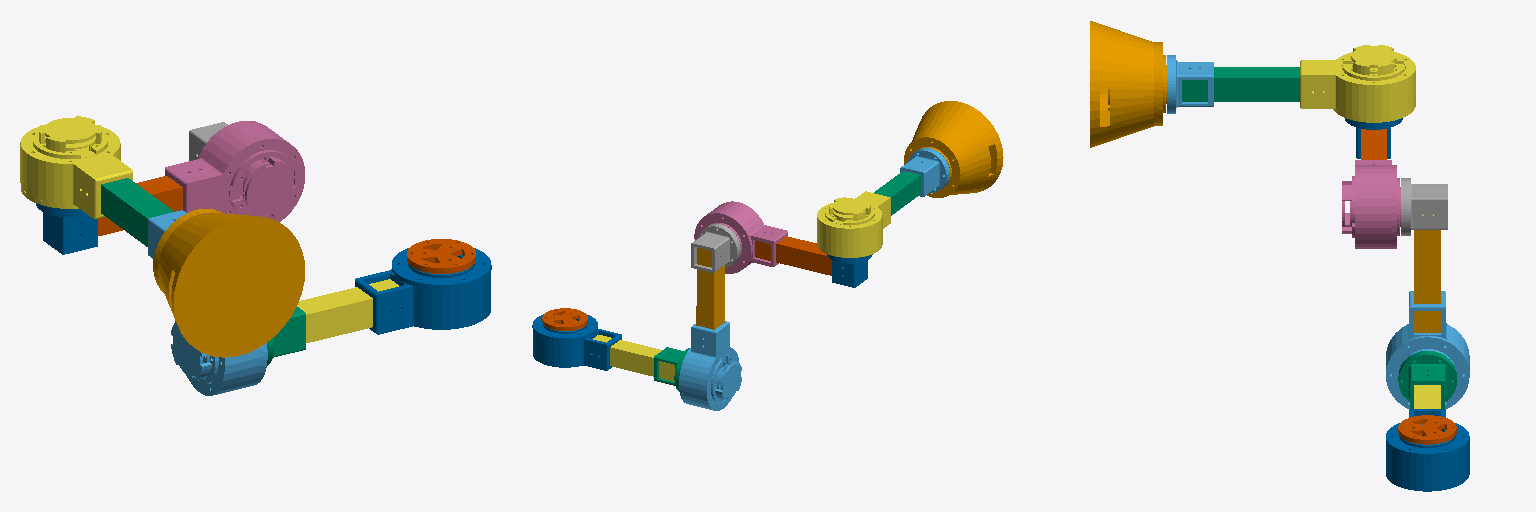
The robot description file, URDF, robot "Auto-Generated: e5adead3ab344a70b7c7bb95dea86124":
<robot name="Auto-Generated: e5adead3ab344a70b7c7bb95dea86124">
	<link name="base_rev_joint.base_motor_link">
		<inertial>
			<origin xyz="1.6355e-05 -2.1044e-06 -0.030945" rpy="3.141592653589793 0.0 0.0" />
			<mass value="1.1937" />
			<inertia ixx="0.0011798" ixy="-3.4788e-08" ixz="2.8837e-07" iyy="0.0010863" iyz="5.0519e-08" izz="0.0016066" />
		</inertial>
		<visual name="base_rev_joint.base_motor_link_visual">
			<origin xyz="0.0 0.0 0.0" rpy="3.141592653589793 0.0 0.0" />
			<geometry>
				<mesh filename="assets/Assem_4310_BASE/Assem_4310_BASE/meshes/base_motor_link.STL" scale="1.0 1.0 1.0" />
			</geometry>
		</visual>
		<collision name="base_rev_joint.base_motor_link_collision">
			<origin xyz="0.0 0.0 0.0" rpy="3.141592653589793 0.0 0.0" />
			<geometry>
				<mesh filename="assets/Assem_4310_BASE/Assem_4310_BASE/meshes/base_motor_link.STL" scale="1.0 1.0 1.0" />
			</geometry>
		</collision>
	</link>
	<link name="base_rev_joint.base_out_link">
		<inertial>
			<origin xyz="2.3272e-17 0.0011054 0.008691" rpy="0.0 0.0 0.0" />
			<mass value="0.088545" />
			<inertia ixx="2.4599e-05" ixy="-1.5532e-21" ixz="3.7828e-22" iyy="2.5766e-05" iyz="-7.8406e-07" izz="3.0632e-05" />
		</inertial>
		<visual name="base_rev_joint.base_out_link_visual">
			<origin xyz="0.0 0.0 0.0" rpy="0.0 0.0 0.0" />
			<geometry>
				<mesh filename="assets/Assem_4310_BASE/Assem_4310_BASE/meshes/base_out_link.STL" scale="1.0 1.0 1.0" />
			</geometry>
		</visual>
		<collision name="base_rev_joint.base_out_link_collision">
			<origin xyz="0.0 0.0 0.0" rpy="0.0 0.0 0.0" />
			<geometry>
				<mesh filename="assets/Assem_4310_BASE/Assem_4310_BASE/meshes/base_out_link.STL" scale="1.0 1.0 1.0" />
			</geometry>
		</collision>
	</link>
	<link name="baseto4310-0.15.baseto4310-0.15">
		<inertial>
			<origin xyz="0.0 0.0 -0.075" rpy="0.0 0.0 0.0" />
			<mass value="9.375000000000002e-05" />
			<inertia ixx="1.7822265625e-07" ixy="0.0" ixz="0.0" iyy="1.7822265625e-07" iyz="0.0" izz="4.882812500000001e-09" />
		</inertial>
		<visual name="baseto4310-0.15.baseto4310-0.15_visual">
			<origin xyz="0.0 0.0 -0.075" rpy="0.0 0.0 0.0" />
			<geometry>
				<box size="0.025 0.025 0.15" />
			</geometry>
		</visual>
		<collision name="baseto4310-0.15.baseto4310-0.15_collision">
			<origin xyz="0.0 0.0 -0.075" rpy="0.0 0.0 0.0" />
			<geometry>
				<box size="0.025 0.025 0.15" />
			</geometry>
		</collision>
	</link>
	<link name="motor4310_rev_joint.motor4310_in_link">
		<inertial>
			<origin xyz="0.0012212 -4.3571e-06 0.035478" rpy="0.0 0.0 0.0" />
			<mass value="0.57649" />
			<inertia ixx="0.00051876" ixy="-5.0519e-08" ixz="-5.0469e-06" iyy="0.00039258" iyz="3.4788e-08" izz="0.00029808" />
		</inertial>
		<visual name="motor4310_rev_joint.motor4310_in_link_visual">
			<origin xyz="0.0 0.0 0.0" rpy="0.0 0.0 0.0" />
			<geometry>
				<mesh filename="assets/Assem_4310_JOINT/Assem_4310_JOINT/meshes/motor4310_in_link.STL" scale="1.0 1.0 1.0" />
			</geometry>
		</visual>
		<collision name="motor4310_rev_joint.motor4310_in_link_collision">
			<origin xyz="0.0 0.0 0.0" rpy="0.0 0.0 0.0" />
			<geometry>
				<mesh filename="assets/Assem_4310_JOINT/Assem_4310_JOINT/meshes/motor4310_in_link.STL" scale="1.0 1.0 1.0" />
			</geometry>
		</collision>
	</link>
	<link name="motor4310_rev_joint.motor4310_out_link">
		<inertial>
			<origin xyz="-2.5332e-10 -0.013691 0.0011054" rpy="0.0 0.0 0.0" />
			<mass value="0.088545" />
			<inertia ixx="2.4599e-05" ixy="-3.8934e-22" ixz="-1.8263e-21" iyy="3.0632e-05" iyz="7.8406e-07" izz="2.5766e-05" />
		</inertial>
		<visual name="motor4310_rev_joint.motor4310_out_link_visual">
			<origin xyz="0.0 0.0 0.0" rpy="0.0 0.0 0.0" />
			<geometry>
				<mesh filename="assets/Assem_4310_JOINT/Assem_4310_JOINT/meshes/motor4310_out_link.STL" scale="1.0 1.0 1.0" />
			</geometry>
		</visual>
		<collision name="motor4310_rev_joint.motor4310_out_link_collision">
			<origin xyz="0.0 0.0 0.0" rpy="0.0 0.0 0.0" />
			<geometry>
				<mesh filename="assets/Assem_4310_JOINT/Assem_4310_JOINT/meshes/motor4310_out_link.STL" scale="1.0 1.0 1.0" />
			</geometry>
		</collision>
	</link>
	<link name="r4310to4310-0.15.r4310to4310-0.15">
		<inertial>
			<origin xyz="0.0 0.025 0.0625" rpy="0.0 0.0 0.0" />
			<mass value="9.375000000000002e-05" />
			<inertia ixx="1.7822265625e-07" ixy="0.0" ixz="0.0" iyy="1.7822265625e-07" iyz="0.0" izz="4.882812500000001e-09" />
		</inertial>
		<visual name="r4310to4310-0.15.r4310to4310-0.15_visual">
			<origin xyz="0.0 0.025 0.0625" rpy="0.0 0.0 0.0" />
			<geometry>
				<box size="0.025 0.025 0.15" />
			</geometry>
		</visual>
		<collision name="r4310to4310-0.15.r4310to4310-0.15_collision">
			<origin xyz="0.0 0.025 0.0625" rpy="0.0 0.0 0.0" />
			<geometry>
				<box size="0.025 0.025 0.15" />
			</geometry>
		</collision>
	</link>
	<link name="motor4310_rev_joint-1.motor4310_in_link">
		<inertial>
			<origin xyz="0.0012212 -4.3571e-06 0.035478" rpy="0.0 0.0 0.0" />
			<mass value="0.57649" />
			<inertia ixx="0.00051876" ixy="-5.0519e-08" ixz="-5.0469e-06" iyy="0.00039258" iyz="3.4788e-08" izz="0.00029808" />
		</inertial>
		<visual name="motor4310_rev_joint-1.motor4310_in_link_visual">
			<origin xyz="0.0 0.0 0.0" rpy="0.0 0.0 0.0" />
			<geometry>
				<mesh filename="assets/Assem_4310_JOINT/Assem_4310_JOINT/meshes/motor4310_in_link.STL" scale="1.0 1.0 1.0" />
			</geometry>
		</visual>
		<collision name="motor4310_rev_joint-1.motor4310_in_link_collision">
			<origin xyz="0.0 0.0 0.0" rpy="0.0 0.0 0.0" />
			<geometry>
				<mesh filename="assets/Assem_4310_JOINT/Assem_4310_JOINT/meshes/motor4310_in_link.STL" scale="1.0 1.0 1.0" />
			</geometry>
		</collision>
	</link>
	<link name="motor4310_rev_joint-1.motor4310_out_link">
		<inertial>
			<origin xyz="-2.5332e-10 -0.013691 0.0011054" rpy="0.0 0.0 0.0" />
			<mass value="0.088545" />
			<inertia ixx="2.4599e-05" ixy="-3.8934e-22" ixz="-1.8263e-21" iyy="3.0632e-05" iyz="7.8406e-07" izz="2.5766e-05" />
		</inertial>
		<visual name="motor4310_rev_joint-1.motor4310_out_link_visual">
			<origin xyz="0.0 0.0 0.0" rpy="0.0 0.0 0.0" />
			<geometry>
				<mesh filename="assets/Assem_4310_JOINT/Assem_4310_JOINT/meshes/motor4310_out_link.STL" scale="1.0 1.0 1.0" />
			</geometry>
		</visual>
		<collision name="motor4310_rev_joint-1.motor4310_out_link_collision">
			<origin xyz="0.0 0.0 0.0" rpy="0.0 0.0 0.0" />
			<geometry>
				<mesh filename="assets/Assem_4310_JOINT/Assem_4310_JOINT/meshes/motor4310_out_link.STL" scale="1.0 1.0 1.0" />
			</geometry>
		</collision>
	</link>
	<link name="r4310to4310-0.15-1.r4310to4310-0.15">
		<inertial>
			<origin xyz="0.0 0.025 0.0625" rpy="0.0 0.0 0.0" />
			<mass value="9.375000000000002e-05" />
			<inertia ixx="1.7822265625e-07" ixy="0.0" ixz="0.0" iyy="1.7822265625e-07" iyz="0.0" izz="4.882812500000001e-09" />
		</inertial>
		<visual name="r4310to4310-0.15-1.r4310to4310-0.15_visual">
			<origin xyz="0.0 0.025 0.0625" rpy="0.0 0.0 0.0" />
			<geometry>
				<box size="0.025 0.025 0.15" />
			</geometry>
		</visual>
		<collision name="r4310to4310-0.15-1.r4310to4310-0.15_collision">
			<origin xyz="0.0 0.025 0.0625" rpy="0.0 0.0 0.0" />
			<geometry>
				<box size="0.025 0.025 0.15" />
			</geometry>
		</collision>
	</link>
	<link name="motor4310_rev_joint-2.motor4310_in_link">
		<inertial>
			<origin xyz="0.0012212 -4.3571e-06 0.035478" rpy="0.0 0.0 0.0" />
			<mass value="0.57649" />
			<inertia ixx="0.00051876" ixy="-5.0519e-08" ixz="-5.0469e-06" iyy="0.00039258" iyz="3.4788e-08" izz="0.00029808" />
		</inertial>
		<visual name="motor4310_rev_joint-2.motor4310_in_link_visual">
			<origin xyz="0.0 0.0 0.0" rpy="0.0 0.0 0.0" />
			<geometry>
				<mesh filename="assets/Assem_4310_JOINT/Assem_4310_JOINT/meshes/motor4310_in_link.STL" scale="1.0 1.0 1.0" />
			</geometry>
		</visual>
		<collision name="motor4310_rev_joint-2.motor4310_in_link_collision">
			<origin xyz="0.0 0.0 0.0" rpy="0.0 0.0 0.0" />
			<geometry>
				<mesh filename="assets/Assem_4310_JOINT/Assem_4310_JOINT/meshes/motor4310_in_link.STL" scale="1.0 1.0 1.0" />
			</geometry>
		</collision>
	</link>
	<link name="motor4310_rev_joint-2.motor4310_out_link">
		<inertial>
			<origin xyz="-2.5332e-10 -0.013691 0.0011054" rpy="0.0 0.0 0.0" />
			<mass value="0.088545" />
			<inertia ixx="2.4599e-05" ixy="-3.8934e-22" ixz="-1.8263e-21" iyy="3.0632e-05" iyz="7.8406e-07" izz="2.5766e-05" />
		</inertial>
		<visual name="motor4310_rev_joint-2.motor4310_out_link_visual">
			<origin xyz="0.0 0.0 0.0" rpy="0.0 0.0 0.0" />
			<geometry>
				<mesh filename="assets/Assem_4310_JOINT/Assem_4310_JOINT/meshes/motor4310_out_link.STL" scale="1.0 1.0 1.0" />
			</geometry>
		</visual>
		<collision name="motor4310_rev_joint-2.motor4310_out_link_collision">
			<origin xyz="0.0 0.0 0.0" rpy="0.0 0.0 0.0" />
			<geometry>
				<mesh filename="assets/Assem_4310_JOINT/Assem_4310_JOINT/meshes/motor4310_out_link.STL" scale="1.0 1.0 1.0" />
			</geometry>
		</collision>
	</link>
	<link name="r4310to4305-0.15.r4310to4305-0.15">
		<inertial>
			<origin xyz="0.0 0.0625 0.0" rpy="-1.5707963267948966 0.0 0.0" />
			<mass value="9.375000000000002e-05" />
			<inertia ixx="1.7822265625e-07" ixy="0.0" ixz="0.0" iyy="1.7822265625e-07" iyz="0.0" izz="4.882812500000001e-09" />
		</inertial>
		<visual name="r4310to4305-0.15.r4310to4305-0.15_visual">
			<origin xyz="0.0 0.0625 0.0" rpy="-1.5707963267948966 0.0 0.0" />
			<geometry>
				<box size="0.025 0.025 0.15" />
			</geometry>
		</visual>
		<collision name="r4310to4305-0.15.r4310to4305-0.15_collision">
			<origin xyz="0.0 0.0625 0.0" rpy="-1.5707963267948966 0.0 0.0" />
			<geometry>
				<box size="0.025 0.025 0.15" />
			</geometry>
		</collision>
	</link>
	<link name="motor4305_rev_joint.motor4305_link">
		<inertial>
			<origin xyz="0.0042941 1.4489e-06 0.034665" rpy="0.0 0.0 0.0" />
			<mass value="0.48076" />
			<inertia ixx="0.0004787" ixy="5.7034e-09" ixz="-5.2375e-06" iyy="0.000333" iyz="1.5111e-08" izz="0.00023888" />
		</inertial>
		<visual name="motor4305_rev_joint.motor4305_link_visual">
			<origin xyz="0.0 0.0 0.0" rpy="0.0 0.0 0.0" />
			<geometry>
				<mesh filename="assets/Assem_4305_JOINT/Assem_4305_JOINT/meshes/motor4305_link.STL" scale="1.0 1.0 1.0" />
			</geometry>
		</visual>
		<collision name="motor4305_rev_joint.motor4305_link_collision">
			<origin xyz="0.0 0.0 0.0" rpy="0.0 0.0 0.0" />
			<geometry>
				<mesh filename="assets/Assem_4305_JOINT/Assem_4305_JOINT/meshes/motor4305_link.STL" scale="1.0 1.0 1.0" />
			</geometry>
		</collision>
	</link>
	<link name="motor4305_rev_joint.motor4305_out_link">
		<inertial>
			<origin xyz="-1.3533e-08 -0.0025 -3.5182e-09" rpy="0.0 0.0 0.0" />
			<mass value="0.026746" />
			<inertia ixx="5.4686e-06" ixy="4.832e-22" ixz="-3.7058e-22" iyy="1.0826e-05" iyz="-3.2034e-22" izz="5.4686e-06" />
		</inertial>
		<visual name="motor4305_rev_joint.motor4305_out_link_visual">
			<origin xyz="0.0 0.0 0.0" rpy="0.0 0.0 0.0" />
			<geometry>
				<mesh filename="assets/Assem_4305_JOINT/Assem_4305_JOINT/meshes/motor4305_out_link.STL" scale="1.0 1.0 1.0" />
			</geometry>
		</visual>
		<collision name="motor4305_rev_joint.motor4305_out_link_collision">
			<origin xyz="0.0 0.0 0.0" rpy="0.0 0.0 0.0" />
			<geometry>
				<mesh filename="assets/Assem_4305_JOINT/Assem_4305_JOINT/meshes/motor4305_out_link.STL" scale="1.0 1.0 1.0" />
			</geometry>
		</collision>
	</link>
	<link name="motor4305_rev_joint.motor4305_out_link.motor4305_out_linkconnector.body" />
	<joint name="base_rev_joint.base_rev_joint" type="revolute">
		<origin xyz="0.0 0.077 -0.0" rpy="1.570800001041897 1.5707926535897991 -3.14159265254789" />
		<parent link="base_rev_joint.base_motor_link" />
		<child link="base_rev_joint.base_out_link" />
		<axis xyz="0 0 1" />
		<dynamics damping="0.0" friction="0.0" />
		<limit lower="-3.141592653589793" upper="3.141592653589793" effort="1000.0" velocity="10.0" />
	</joint>
	<joint name="baseto4310-0.15.baseto4310-0.15.2-1" type="fixed">
		<origin xyz="0.0 0.0 0.0" rpy="3.141592653589793 0.0 0.0" />
		<parent link="base_rev_joint.base_out_link" />
		<child link="baseto4310-0.15.baseto4310-0.15" />
	</joint>
	<joint name="motor4310_rev_joint.motor4310_in_link.motor4310_in_linkconnector" type="fixed">
		<origin xyz="0.0 0.0 -0.15" rpy="1.5707963267948966 0.0 0.0" />
		<parent link="baseto4310-0.15.baseto4310-0.15" />
		<child link="motor4310_rev_joint.motor4310_in_link" />
	</joint>
	<joint name="motor4310_rev_joint.motor4310_rev_joint" type="revolute">
		<origin xyz="0.0255 -0.0395 0.0" rpy="0.0 0.0 1.5699999999999987" />
		<parent link="motor4310_rev_joint.motor4310_in_link" />
		<child link="motor4310_rev_joint.motor4310_out_link" />
		<axis xyz="0 0 1" />
		<dynamics damping="0.0" friction="0.0" />
		<limit lower="-3.141592653589793" upper="3.141592653589793" effort="1000.0" velocity="10.0" />
	</joint>
	<joint name="r4310to4310-0.15.r4310to4310-0.15.2-1" type="fixed">
		<origin xyz="0.0 0.0 0.0" rpy="3.141592653589793 0.0 0.0" />
		<parent link="motor4310_rev_joint.motor4310_out_link" />
		<child link="r4310to4310-0.15.r4310to4310-0.15" />
	</joint>
	<joint name="motor4310_rev_joint-1.motor4310_in_link.motor4310_in_linkconnector" type="fixed">
		<origin xyz="0.0 0.025 0.125" rpy="-1.5707963267948966 0.0 -3.141592653589793" />
		<parent link="r4310to4310-0.15.r4310to4310-0.15" />
		<child link="motor4310_rev_joint-1.motor4310_in_link" />
	</joint>
	<joint name="motor4310_rev_joint-1.motor4310_rev_joint" type="revolute">
		<origin xyz="0.02549999999838 -0.03949999999748 0.0" rpy="0.0 0.0 1.56999999997889" />
		<parent link="motor4310_rev_joint-1.motor4310_in_link" />
		<child link="motor4310_rev_joint-1.motor4310_out_link" />
		<axis xyz="0 0 1" />
		<dynamics damping="0.0" friction="0.0" />
		<limit lower="-3.141592653589793" upper="3.141592653589793" effort="1000.0" velocity="10.0" />
	</joint>
	<joint name="r4310to4310-0.15-1.r4310to4310-0.15.2-1" type="fixed">
		<origin xyz="0.0 0.0 0.0" rpy="3.141592653589793 0.0 0.0" />
		<parent link="motor4310_rev_joint-1.motor4310_out_link" />
		<child link="r4310to4310-0.15-1.r4310to4310-0.15" />
	</joint>
	<joint name="motor4310_rev_joint-2.motor4310_in_link.motor4310_in_linkconnector" type="fixed">
		<origin xyz="0.0 0.025 0.125" rpy="-1.5707963267948966 0.0 -3.141592653589793" />
		<parent link="r4310to4310-0.15-1.r4310to4310-0.15" />
		<child link="motor4310_rev_joint-2.motor4310_in_link" />
	</joint>
	<joint name="motor4310_rev_joint-2.motor4310_rev_joint" type="revolute">
		<origin xyz="0.02549999999838 -0.03949999999748 0.0" rpy="0.0 0.0 1.56999999997889" />
		<parent link="motor4310_rev_joint-2.motor4310_in_link" />
		<child link="motor4310_rev_joint-2.motor4310_out_link" />
		<axis xyz="0 0 1" />
		<dynamics damping="0.0" friction="0.0" />
		<limit lower="-3.141592653589793" upper="3.141592653589793" effort="1000.0" velocity="10.0" />
	</joint>
	<joint name="r4310to4305-0.15.r4310to4305-0.15.2-1" type="fixed">
		<origin xyz="0.0 0.0 0.0" rpy="3.141592653589793 0.0 0.0" />
		<parent link="motor4310_rev_joint-2.motor4310_out_link" />
		<child link="r4310to4305-0.15.r4310to4305-0.15" />
	</joint>
	<joint name="motor4305_rev_joint.motor4305_link.motor4305_linkconnector" type="fixed">
		<origin xyz="0.0 0.1375 0.0" rpy="3.141592653589793 0.0 0.0" />
		<parent link="r4310to4305-0.15.r4310to4305-0.15" />
		<child link="motor4305_rev_joint.motor4305_link" />
	</joint>
	<joint name="motor4305_rev_joint.motor4305_rev_joint" type="revolute">
		<origin xyz="0.0255 -0.0395 0.0" rpy="8.881784197001252e-16 0.03299200000000324 1.570800000000002" />
		<parent link="motor4305_rev_joint.motor4305_link" />
		<child link="motor4305_rev_joint.motor4305_out_link" />
		<axis xyz="0 0 1" />
		<dynamics damping="0.0" friction="0.0" />
		<limit lower="-3.141592653589793" upper="3.141592653589793" effort="1000.0" velocity="10.0" />
	</joint>
	<joint name="motor4305_rev_joint.motor4305_out_link.motor4305_out_linkconnector" type="fixed">
		<origin xyz="0.0 0.0 0.0" rpy="0.0 0.0 0.0" />
		<parent link="motor4305_rev_joint.motor4305_out_link" />
		<child link="motor4305_rev_joint.motor4305_out_link.motor4305_out_linkconnector.body" />
	</joint>
</robot>

--- What the picture shows (computed from the rendered views, not written in the file) ---
Views: 3 orthographic renders of the robot side by side, from view 1: azimuth 30°, elevation 25°; view 2: azimuth 150°, elevation 25°; view 3: azimuth 270°, elevation 25°.
Robot: Auto-Generated: e5adead3ab344a70b7c7bb95dea86124 — 15 links, 14 joints (5 revolute, 9 fixed); root link base_rev_joint.base_motor_link; default pose: all joints at 0.
Visible links, largest first — view 1: base_rev_joint.base_motor_link, motor4310_rev_joint-1.motor4310_in_link, motor4310_rev_joint.motor4310_in_link, motor4305_rev_joint.motor4305_link, motor4310_rev_joint-2.motor4310_in_link, r4310to4305-0.15.r4310to4305-0.15, baseto4310-0.15.baseto4310-0.15, motor4310_rev_joint.motor4310_out_link, motor4305_rev_joint.motor4305_out_link, r4310to4310-0.15.r4310to4310-0.15, motor4310_rev_joint-2.motor4310_out_link, base_rev_joint.base_out_link (+1 smaller); view 2: base_rev_joint.base_motor_link, motor4310_rev_joint-2.motor4310_in_link, motor4310_rev_joint.motor4310_in_link, motor4305_rev_joint.motor4305_link, motor4310_rev_joint-1.motor4310_in_link, r4310to4310-0.15-1.r4310to4310-0.15, r4310to4310-0.15.r4310to4310-0.15, r4310to4305-0.15.r4310to4305-0.15, motor4310_rev_joint-1.motor4310_out_link, base_rev_joint.base_out_link, baseto4310-0.15.baseto4310-0.15, motor4310_rev_joint.motor4310_out_link (+2 smaller); view 3: base_rev_joint.base_motor_link, motor4310_rev_joint.motor4310_in_link, motor4310_rev_joint-1.motor4310_in_link, motor4305_rev_joint.motor4305_link, motor4310_rev_joint-2.motor4310_in_link, baseto4310-0.15.baseto4310-0.15, r4310to4310-0.15-1.r4310to4310-0.15, motor4310_rev_joint-1.motor4310_out_link, motor4310_rev_joint-2.motor4310_out_link, base_rev_joint.base_out_link, motor4305_rev_joint.motor4305_out_link, r4310to4310-0.15.r4310to4310-0.15 (+2 smaller).
Link boxes in pixels (x1,y1,x2,y2): base_rev_joint.base_motor_link: (153, 209, 304, 357); motor4310_rev_joint-1.motor4310_in_link: (165, 121, 304, 222); motor4310_rev_joint.motor4310_in_link: (20, 116, 132, 218); motor4305_rev_joint.motor4305_link: (355, 248, 491, 334); motor4310_rev_joint-2.motor4310_in_link: (171, 321, 267, 395); r4310to4305-0.15.r4310to4305-0.15: (297, 279, 398, 342); baseto4310-0.15.baseto4310-0.15: (101, 178, 173, 246); motor4310_rev_joint.motor4310_out_link: (36, 203, 97, 254); motor4305_rev_joint.motor4305_out_link: (407, 239, 475, 273); r4310to4310-0.15.r4310to4310-0.15: (98, 176, 182, 235); motor4310_rev_joint-2.motor4310_out_link: (267, 307, 305, 365); base_rev_joint.base_out_link: (148, 210, 186, 258); base_rev_joint.base_motor_link: (904, 101, 1003, 197); motor4310_rev_joint-2.motor4310_in_link: (679, 321, 741, 410); motor4310_rev_joint.motor4310_in_link: (817, 191, 890, 257); motor4305_rev_joint.motor4305_link: (532, 314, 621, 370); motor4310_rev_joint-1.motor4310_in_link: (694, 201, 787, 273); r4310to4310-0.15-1.r4310to4310-0.15: (696, 248, 724, 329); r4310to4310-0.15.r4310to4310-0.15: (755, 236, 831, 275); r4310to4305-0.15.r4310to4305-0.15: (593, 335, 674, 381); motor4310_rev_joint-1.motor4310_out_link: (691, 224, 740, 272); base_rev_joint.base_out_link: (900, 148, 949, 196); baseto4310-0.15.baseto4310-0.15: (874, 171, 920, 215); motor4310_rev_joint.motor4310_out_link: (827, 254, 872, 287); base_rev_joint.base_motor_link: (1090, 21, 1166, 147); motor4310_rev_joint.motor4310_in_link: (1300, 45, 1415, 122); motor4310_rev_joint-1.motor4310_in_link: (1342, 160, 1400, 248); motor4305_rev_joint.motor4305_link: (1386, 409, 1469, 491); motor4310_rev_joint-2.motor4310_in_link: (1386, 291, 1469, 408); baseto4310-0.15.baseto4310-0.15: (1182, 67, 1299, 101); r4310to4310-0.15-1.r4310to4310-0.15: (1414, 213, 1440, 332); motor4310_rev_joint-1.motor4310_out_link: (1401, 178, 1447, 235); motor4310_rev_joint-2.motor4310_out_link: (1398, 351, 1456, 408); base_rev_joint.base_out_link: (1167, 55, 1213, 113); motor4305_rev_joint.motor4305_out_link: (1398, 415, 1456, 444); r4310to4310-0.15.r4310to4310-0.15: (1361, 129, 1386, 159).
Bounding box of the posed robot: 0.4665 × 0.3567 × 0.3143 m (x, y, z).
Meshes: 6 distinct files referenced, 10 mesh visuals loaded (6 binary STL).